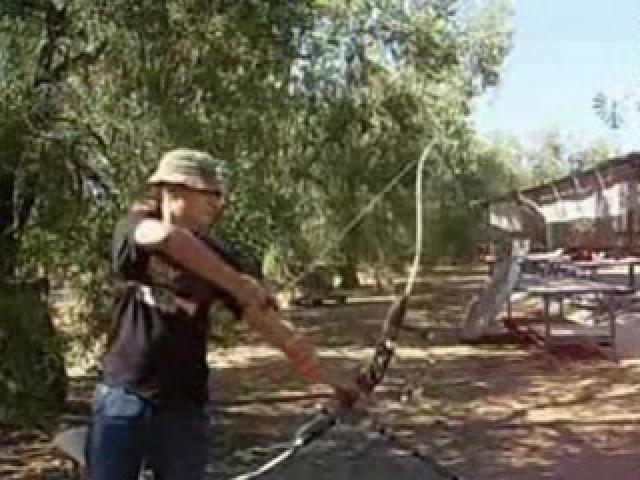I: (82, 140, 367, 480)
